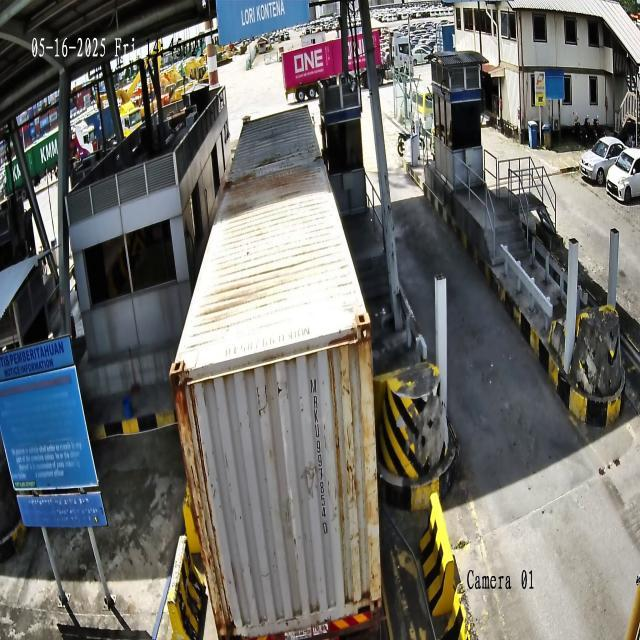container_number: (308, 374, 328, 536)
